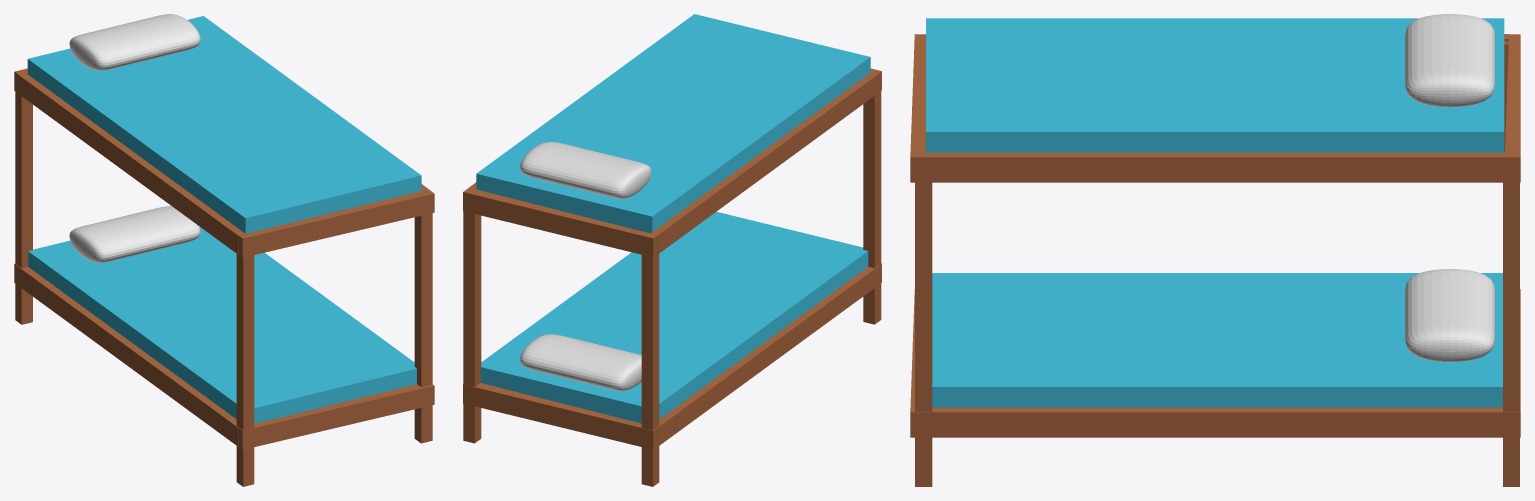
File: Bunk Bed.fbx
The picture shows the model from 3 angles, left to right: view 1: azimuth 30°, elevation 25°; view 2: azimuth 150°, elevation 25°; view 3: azimuth 270°, elevation 25°; orthographic projection. The views are drawn at different scales.
Parts seen in each view (by area): view 1: Cube.009, Cube, Cube.008, Cube.004, Cube.007, Cube.001, Cube.002, Cube.006, Cube.003; view 2: Cube.009, Cube, Cube.008, Cube.004, Cube.007, Cube.001, Cube.003, Cube.005, Cube.002; view 3: Cube.009, Cube, Cube.008, Cube.004, Cube.007, Cube.001, Cube.006, Cube.005.
Boxes of the visible parts, <box> form: Cube.009: <box>27,16,421,233</box>; Cube: <box>28,226,416,423</box>; Cube.008: <box>14,68,434,257</box>; Cube.004: <box>14,263,434,449</box>; Cube.007: <box>69,14,200,70</box>; Cube.001: <box>69,206,200,262</box>; Cube.002: <box>236,254,254,486</box>; Cube.006: <box>414,213,432,443</box>; Cube.003: <box>15,91,32,324</box>; Cube.009: <box>476,14,870,233</box>; Cube: <box>480,211,868,423</box>; Cube.008: <box>463,68,881,257</box>; Cube.004: <box>463,263,881,449</box>; Cube.007: <box>520,141,651,198</box>; Cube.001: <box>520,334,641,391</box>; Cube.003: <box>641,254,659,486</box>; Cube.005: <box>463,211,481,443</box>; Cube.002: <box>863,91,881,324</box>; Cube.009: <box>926,18,1504,152</box>; Cube: <box>932,273,1502,407</box>; Cube.008: <box>910,34,1520,182</box>; Cube.004: <box>910,289,1520,437</box>; Cube.007: <box>1405,14,1494,107</box>; Cube.001: <box>1405,269,1494,362</box>; Cube.006: <box>915,182,932,486</box>; Cube.005: <box>1503,152,1519,486</box>.
Size of the model in its own units: 339 by 487 by 708.
